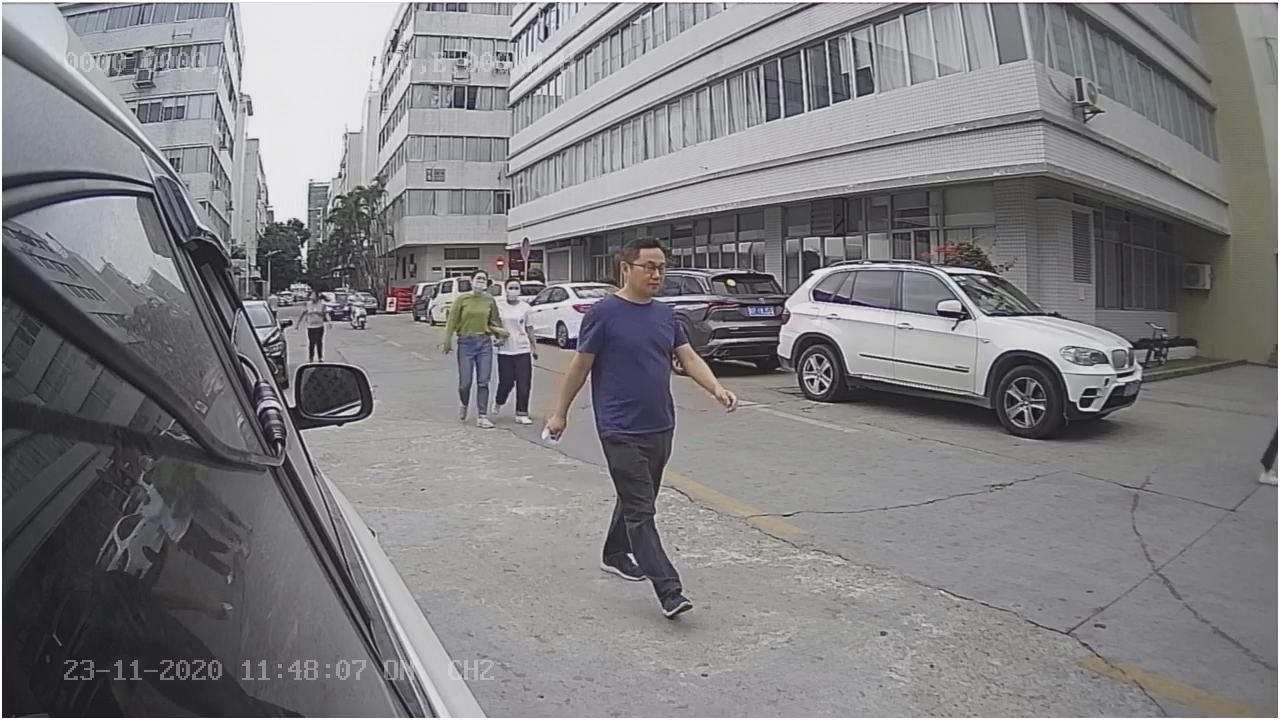person: (541, 229, 738, 617), (438, 263, 500, 430)
